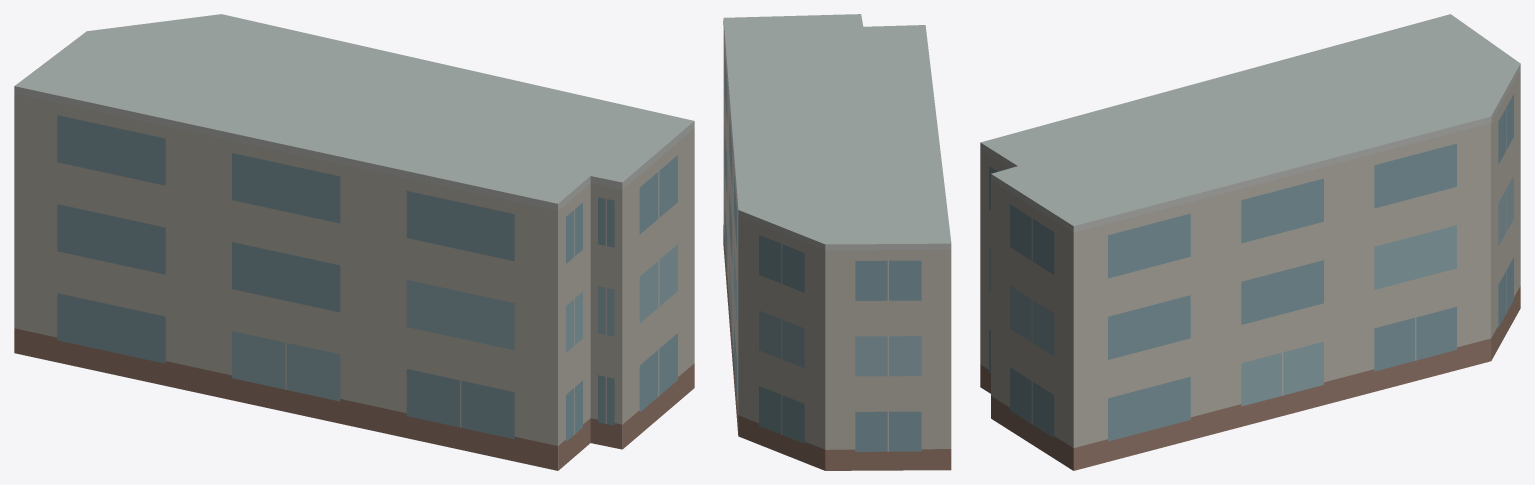
Rendered from survey-upis-32681485.glb.
The picture shows the model from 3 angles, left to right: view 1: azimuth 30°, elevation 25°; view 2: azimuth 150°, elevation 25°; view 3: azimuth 270°, elevation 25°; orthographic projection. The views are drawn at different scales.
Parts seen in each view (by area): view 1: survey-upis-32681485.tmp; view 2: survey-upis-32681485.tmp; view 3: survey-upis-32681485.tmp.
Part boxes in pixels (x1,y1,x2,y2): survey-upis-32681485.tmp: (14,14,694,470); survey-upis-32681485.tmp: (723,14,951,470); survey-upis-32681485.tmp: (980,14,1520,470).
Bounding box in the file's own units: 17.03 × 9.15 × 18.32.
